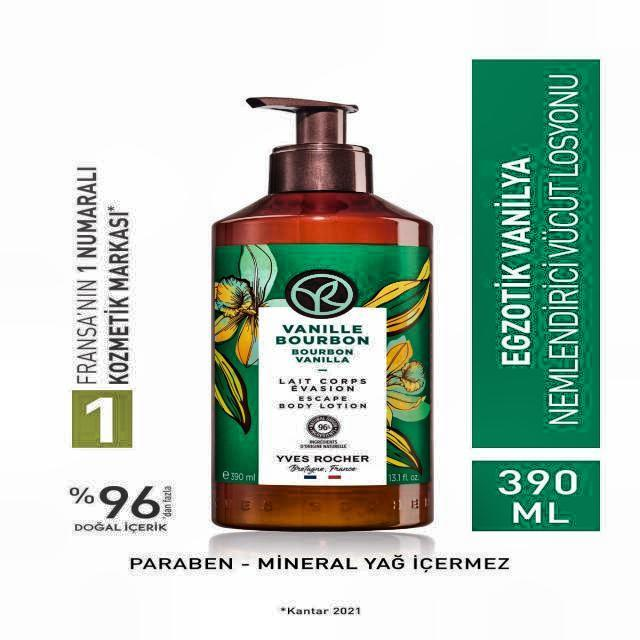plastic: (210, 100, 434, 533)
